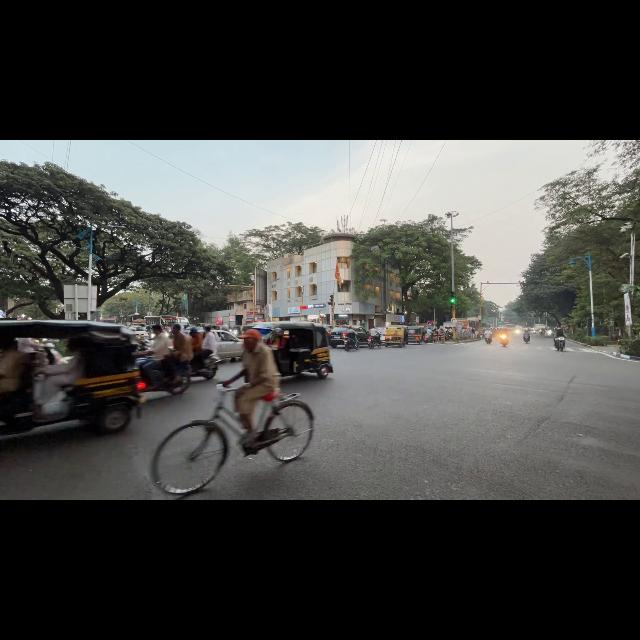bicycle: (151, 384, 243, 494)
bus: (145, 316, 177, 327), (126, 314, 146, 326), (100, 317, 116, 323)
car: (329, 325, 369, 347), (212, 330, 243, 358), (129, 326, 148, 338), (375, 328, 386, 343)
motorcycle: (138, 367, 190, 394), (189, 354, 221, 380), (343, 333, 359, 350), (368, 336, 381, 349), (555, 337, 565, 351), (499, 334, 509, 346), (425, 334, 433, 343), (523, 334, 530, 343), (485, 336, 492, 344), (545, 330, 552, 337)
